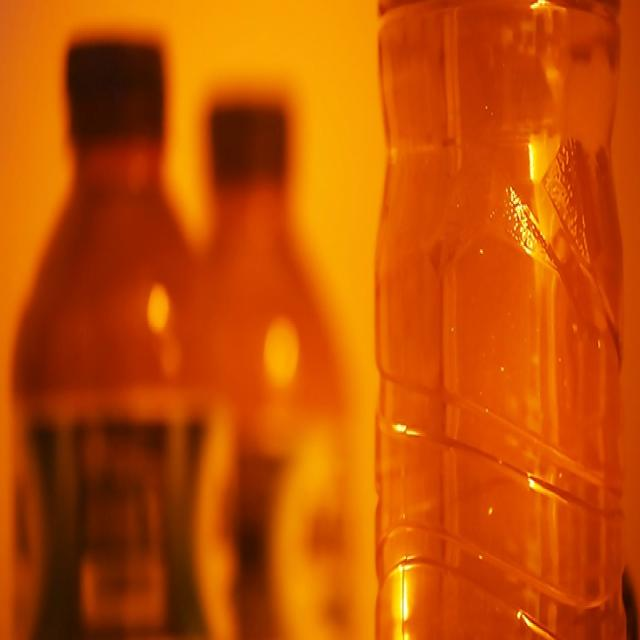plastic_bottle: (372, 0, 628, 638)
